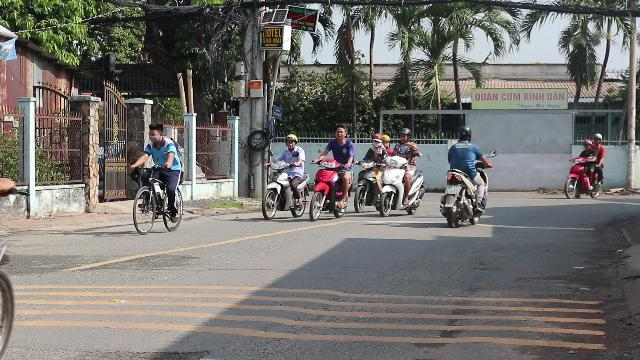helmet: (456, 126, 472, 140), (398, 127, 412, 142), (285, 134, 297, 148)
licenseplate: (445, 185, 459, 193)
motorcyclist: (438, 125, 488, 227), (259, 133, 309, 221), (310, 124, 354, 220)
nohelmet: (332, 124, 348, 140)
